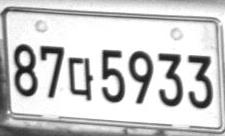3: (157, 52, 184, 107), (187, 54, 213, 109)
5: (101, 49, 125, 102)
7: (40, 45, 64, 97)
8: (12, 43, 39, 97)
9: (127, 50, 154, 103)
다: (68, 56, 93, 100)
